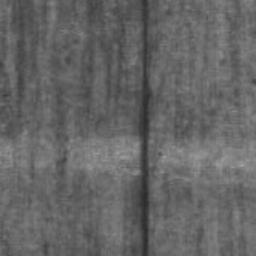Scratches: (138, 0, 153, 256)
